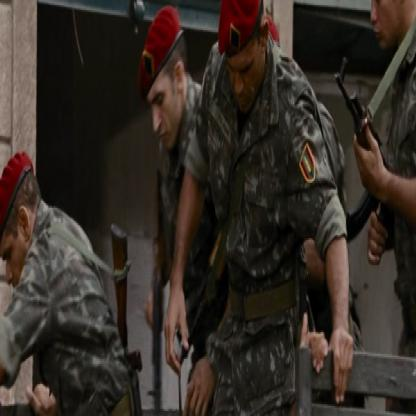Guns: (328, 45, 399, 267), (108, 206, 142, 414), (144, 161, 168, 414)
